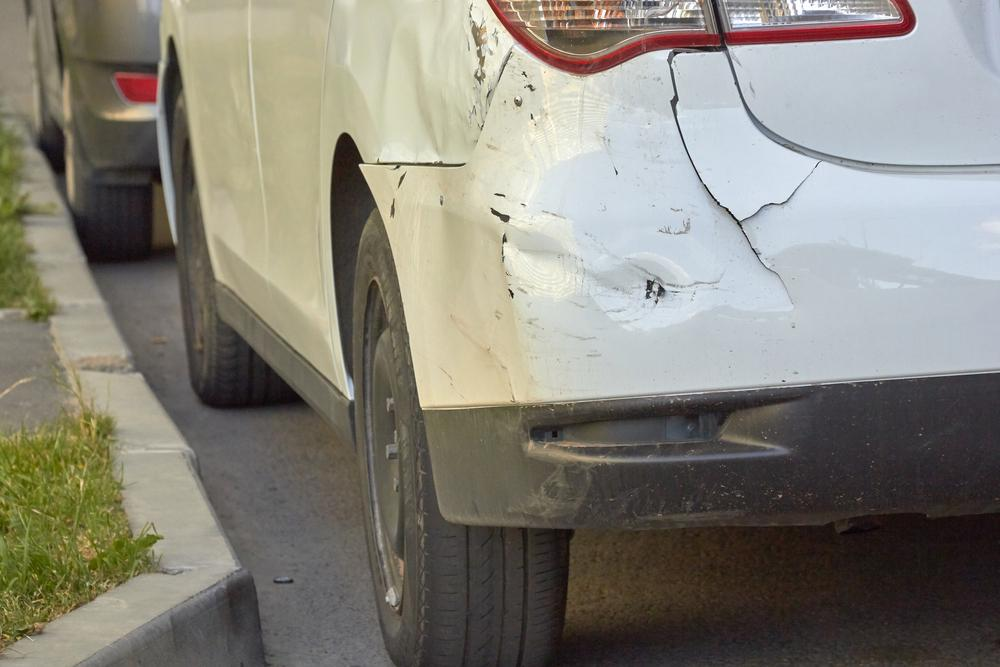crack: (667, 49, 823, 311)
dent: (502, 228, 693, 330), (381, 0, 476, 162)
scratch: (482, 57, 693, 265), (489, 276, 601, 397)
